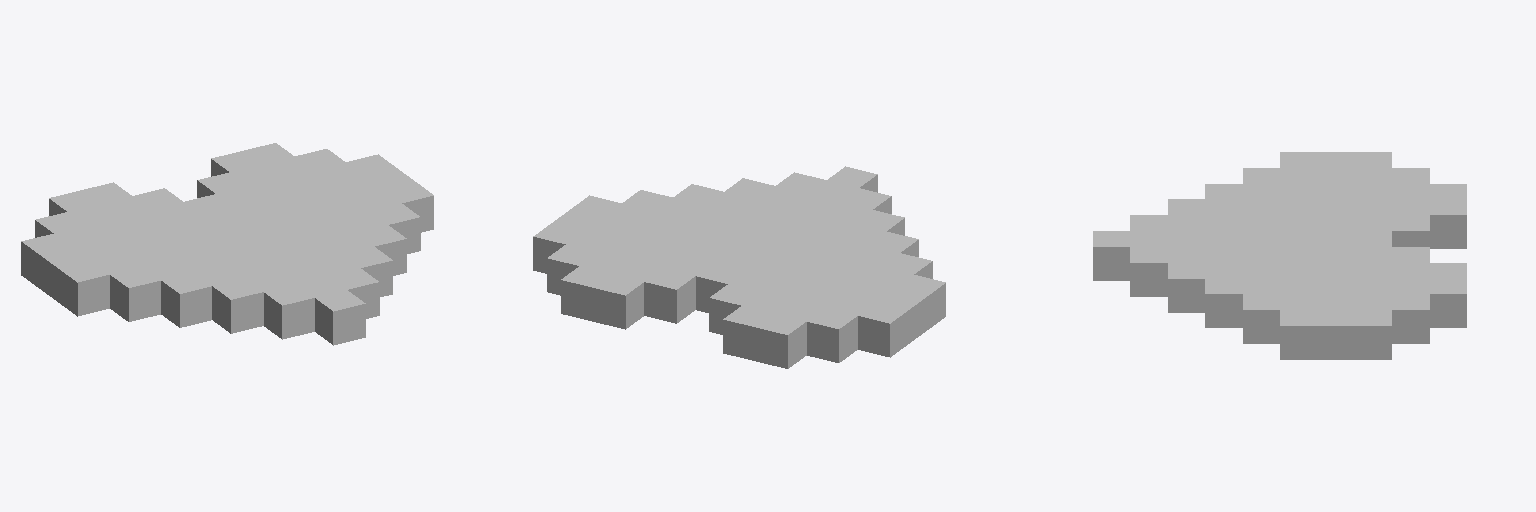
File: heart.obj
The picture shows the model from 3 angles: view 1: azimuth 30°, elevation 25°; view 2: azimuth 150°, elevation 25°; view 3: azimuth 270°, elevation 25°; orthographic projection.
Size of the model in its own units: 11 by 1 by 10.